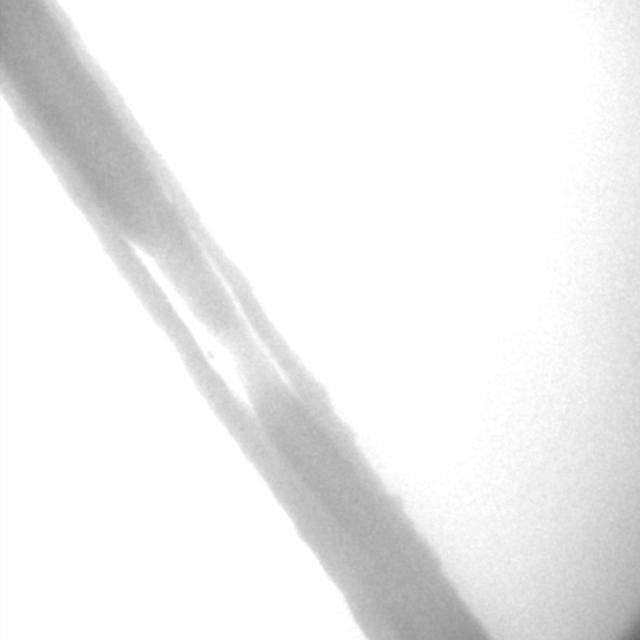unfused: (122, 232, 291, 412)
